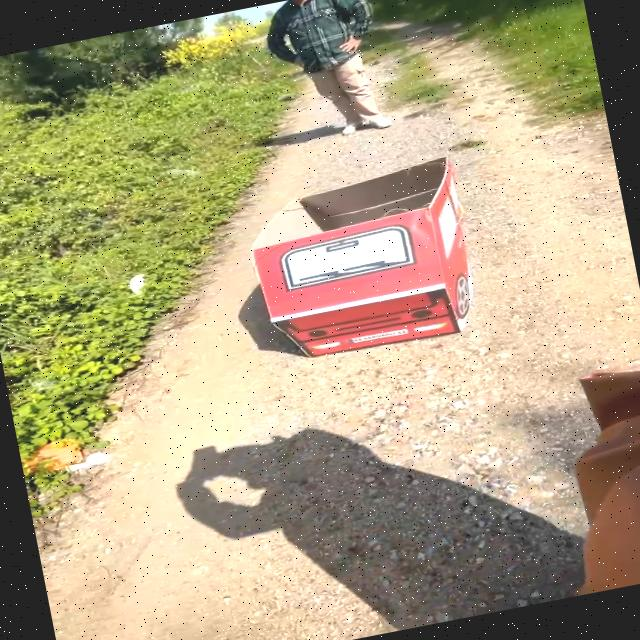red_car: (201, 144, 540, 388)
